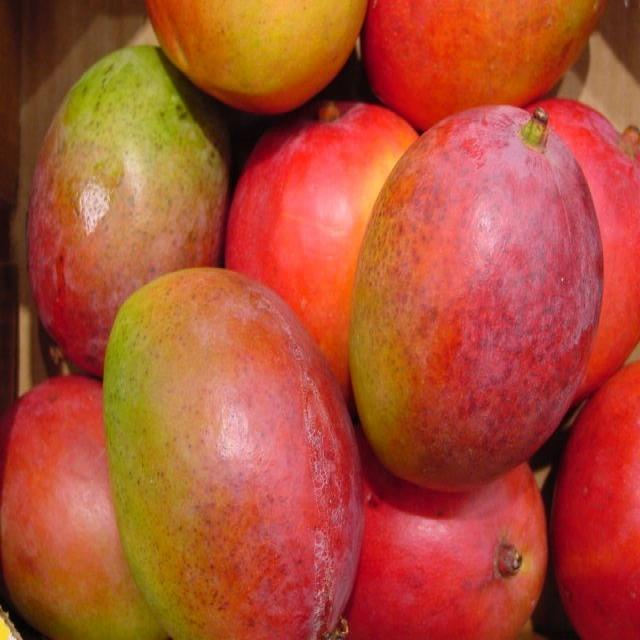mango: (96, 256, 360, 638), (350, 105, 604, 488), (28, 46, 232, 373)
